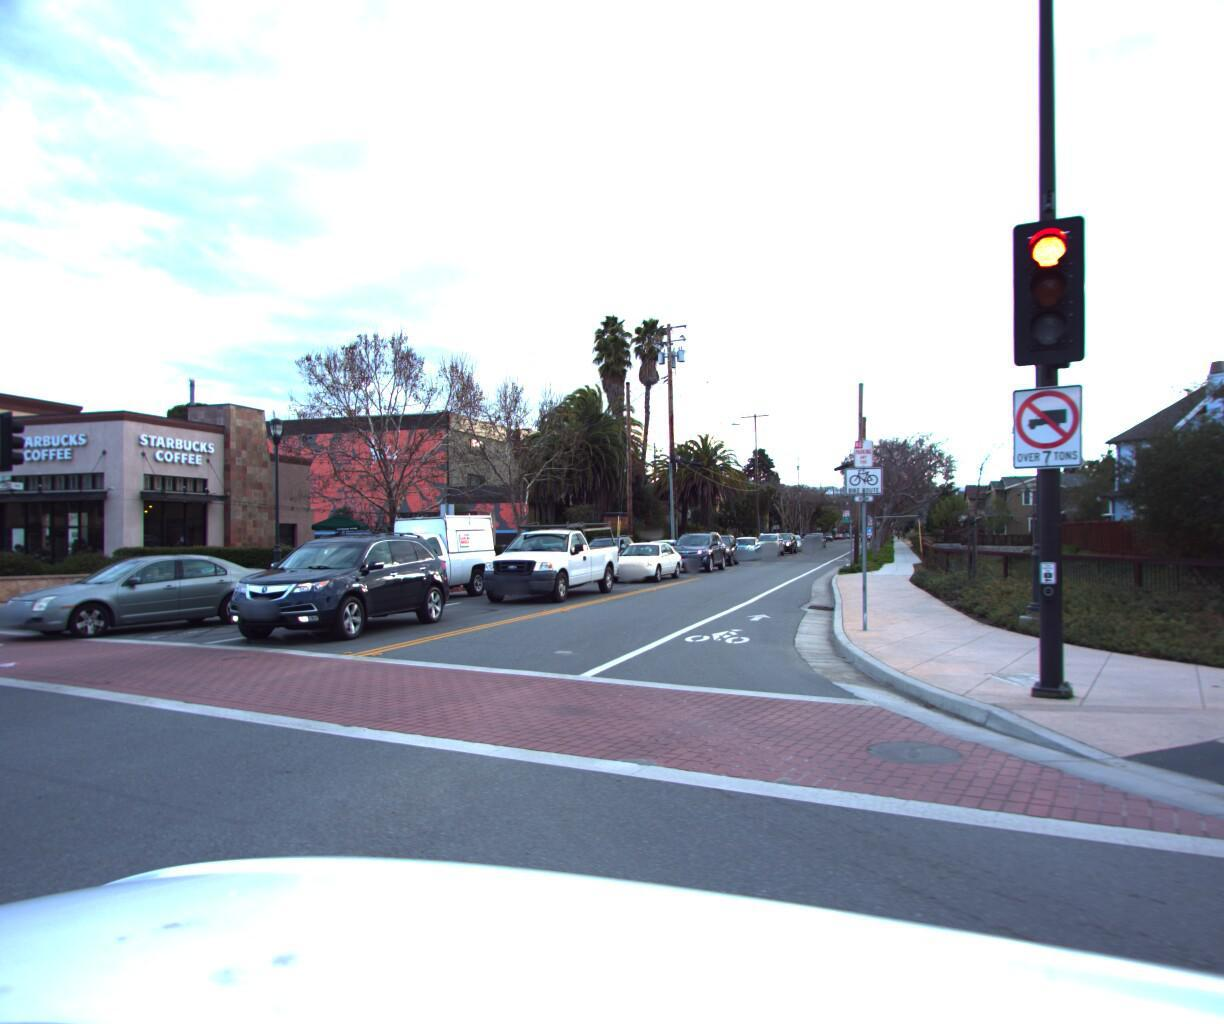car: (196, 527, 462, 648), (464, 511, 627, 604), (596, 535, 687, 581), (565, 528, 642, 573), (660, 525, 728, 568), (631, 532, 689, 564), (692, 527, 741, 559), (725, 528, 764, 555), (751, 529, 787, 552)
truck: (311, 502, 502, 607)
